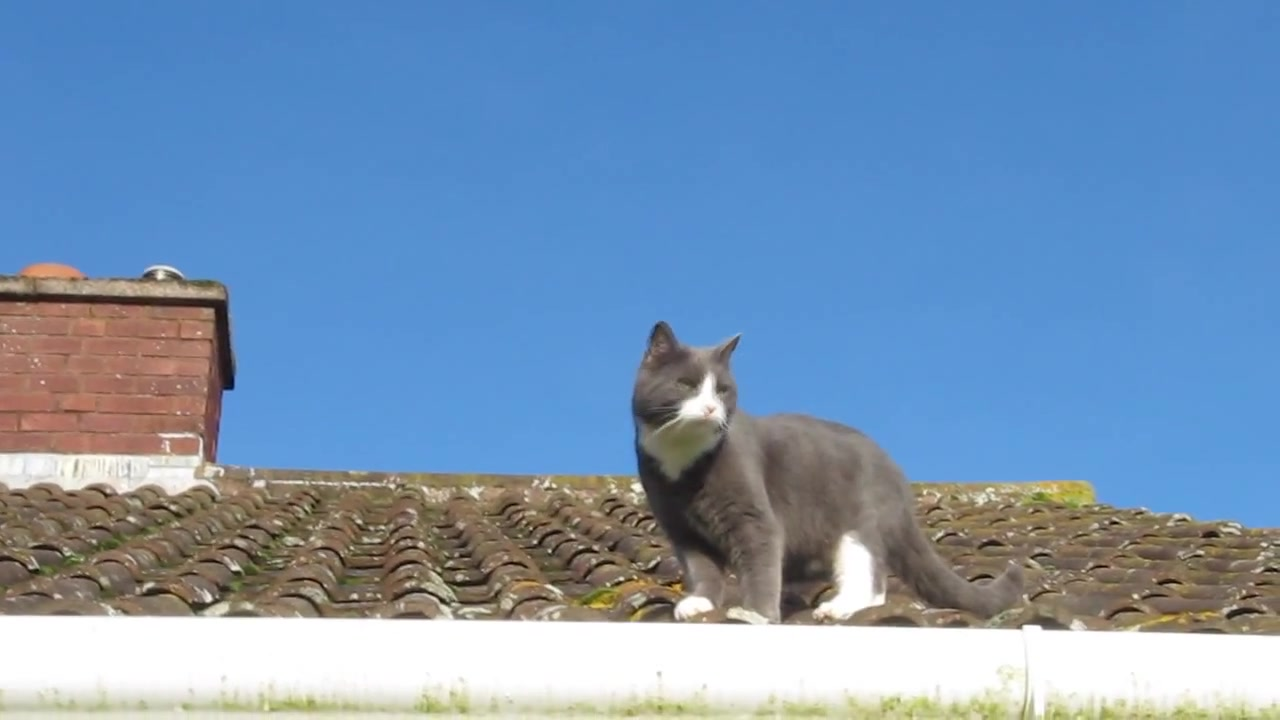cat: (632, 322, 1028, 624)
